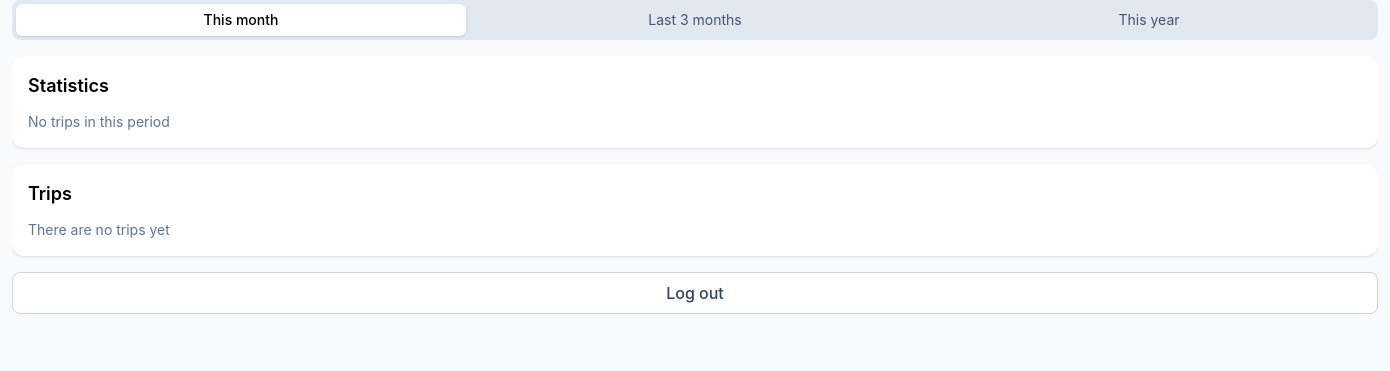
it: reloads trips when the period changes
Expected: the text "There are no trips yet" is shown, top-left (28, 221), bottom-right (170, 238)
Expected: the text "No trips in this period" is shown, top-left (28, 113), bottom-right (170, 130)
Step 1. Click the button "Last 3 months" → click(695, 20), box top-left (470, 4), bottom-right (920, 36)
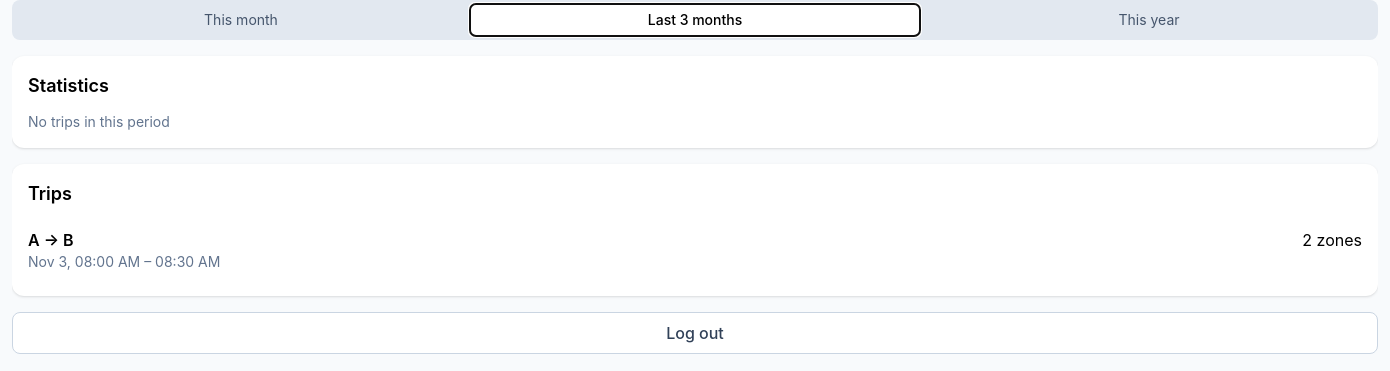
Now the text "A → B" is shown, box top-left (28, 228), bottom-right (74, 252)
